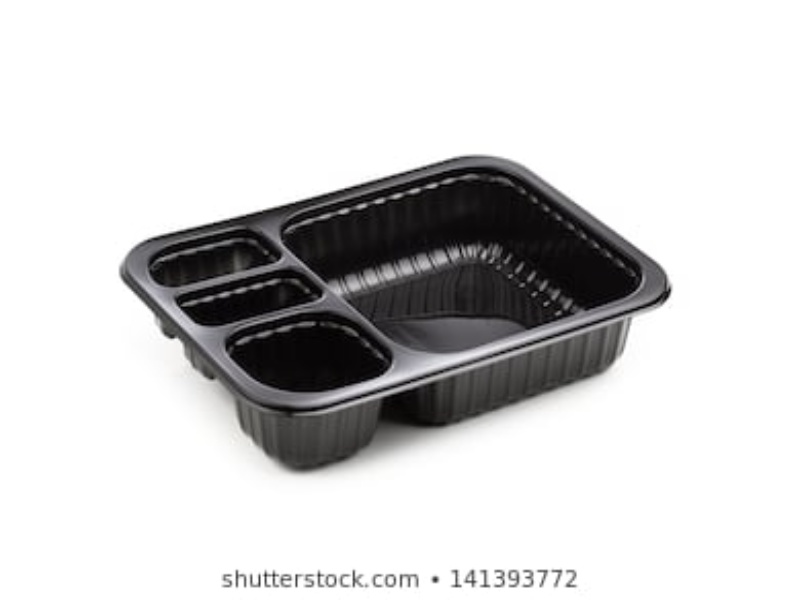plastic-container: (119, 153, 674, 470)
